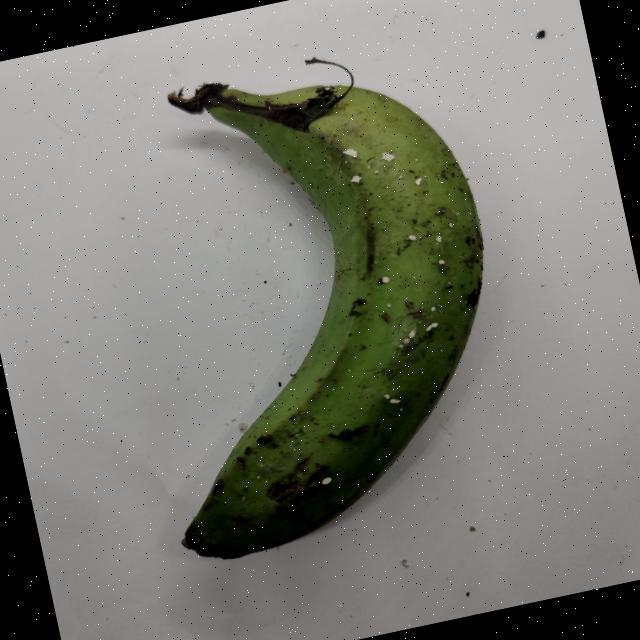Raw: (24, 2, 598, 599)
